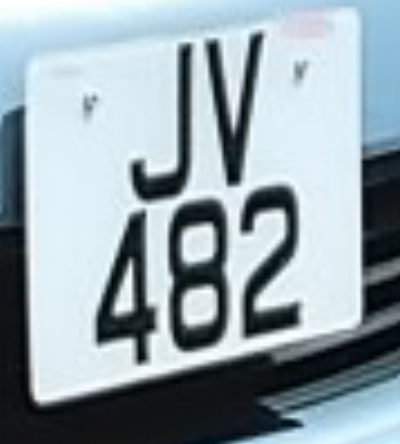2: (226, 175, 321, 357)
4: (77, 195, 168, 393)
8: (158, 191, 244, 374)
J: (120, 25, 204, 207)
V: (198, 22, 275, 201)
